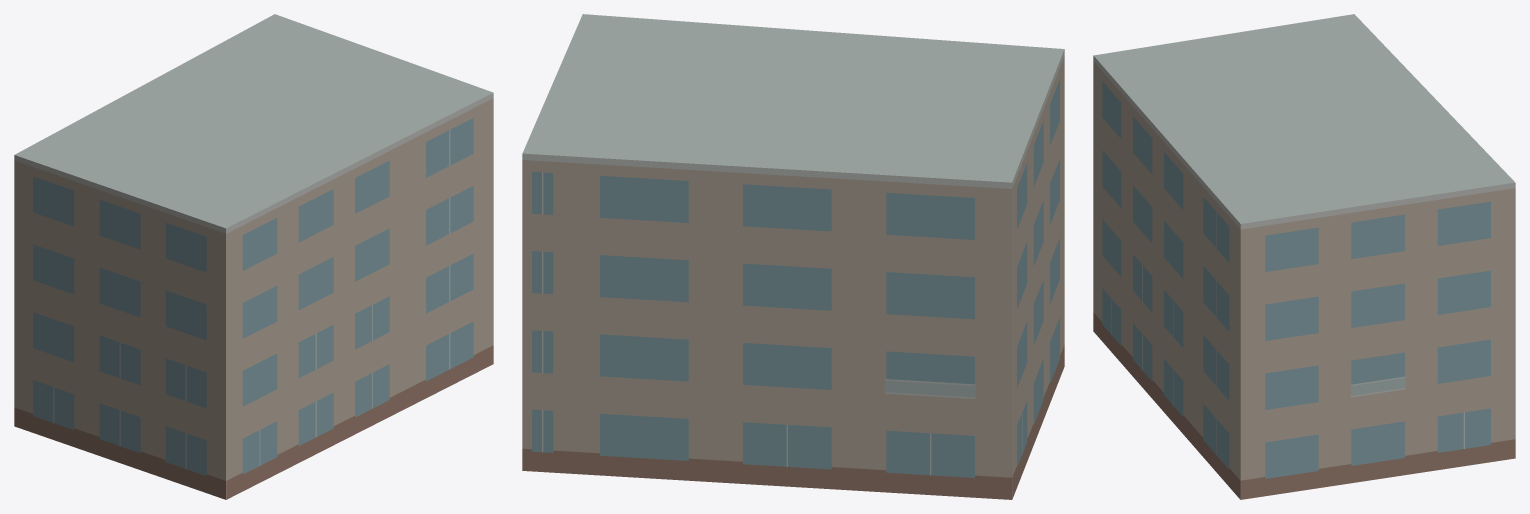
File: survey-upis-33042063.glb
The picture shows the model from 3 angles, left to right: view 1: azimuth 30°, elevation 25°; view 2: azimuth 150°, elevation 25°; view 3: azimuth 270°, elevation 25°; orthographic projection. The views are drawn at different scales.
Parts seen in each view (by area): view 1: survey-upis-33042063.tmp; view 2: survey-upis-33042063.tmp; view 3: survey-upis-33042063.tmp.
Part boxes in pixels (left/top/right/bottom): survey-upis-33042063.tmp: left=14, top=14, right=493, bottom=499; survey-upis-33042063.tmp: left=522, top=14, right=1064, bottom=499; survey-upis-33042063.tmp: left=1093, top=14, right=1515, bottom=499.
Size of the model in its own units: 19.84 by 12.15 by 16.86.
